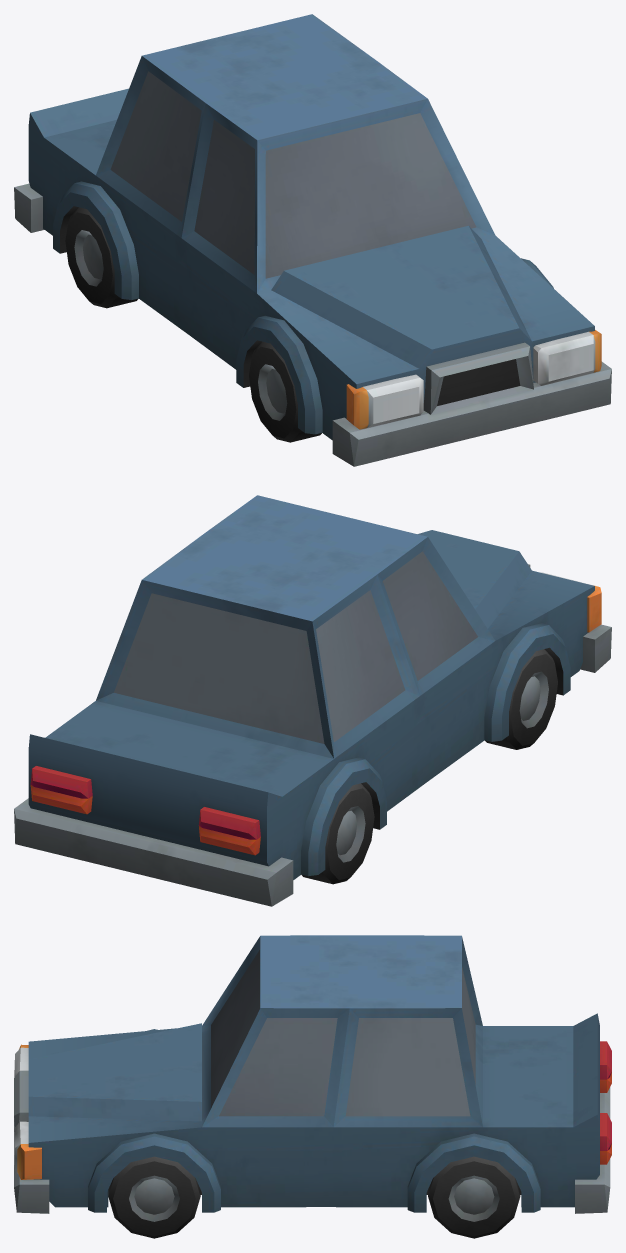
Rendered from car_sedan.glb.
The picture shows the model from 3 angles, top to bottom: view 1: azimuth 30°, elevation 25°; view 2: azimuth 150°, elevation 25°; view 3: azimuth 270°, elevation 25°; orthographic projection. The views are drawn at different scales.
Parts seen in each view (by area): view 1: car_sedan, car_sedan_wheel_rear_right, car_sedan_wheel_front_right; view 2: car_sedan, car_sedan_wheel_rear_right, car_sedan_wheel_front_right; view 3: car_sedan, car_sedan_wheel_front_left, car_sedan_wheel_rear_left.
Boxes of the visible parts, x1,y1,x2,y2 form: car_sedan: [14, 14, 611, 466]; car_sedan_wheel_rear_right: [65, 207, 138, 308]; car_sedan_wheel_front_right: [249, 341, 321, 442]; car_sedan: [14, 495, 611, 906]; car_sedan_wheel_rear_right: [301, 783, 374, 884]; car_sedan_wheel_front_right: [485, 649, 557, 749]; car_sedan: [14, 935, 611, 1213]; car_sedan_wheel_front_left: [108, 1156, 200, 1238]; car_sedan_wheel_rear_left: [428, 1156, 520, 1238].
Size of the model in its own units: 0.419 by 0.3688 by 0.9381.
2 materials, 2 textured.
